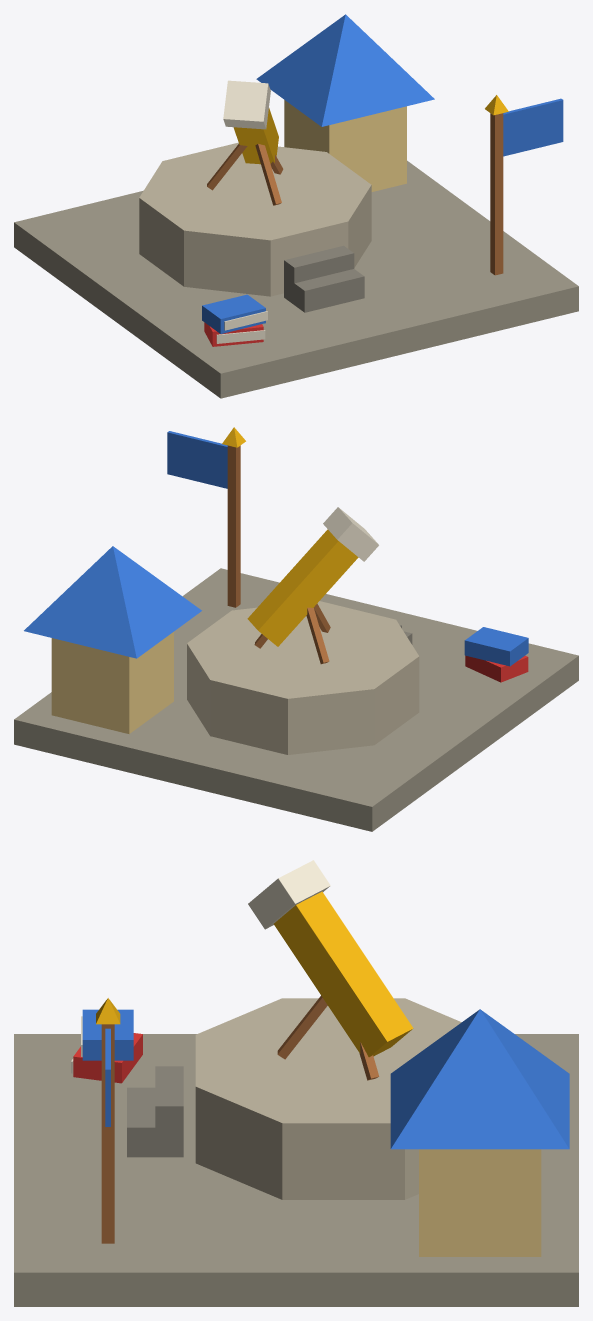
File: observatory_t1_v1.glb
3 views of the same model, one above another, from view 1: azimuth 30°, elevation 25°; view 2: azimuth 150°, elevation 25°; view 3: azimuth 270°, elevation 25° (orthographic). The views are drawn at different scales.
Visible parts, largest first — view 1: observatory_t1_v1; view 2: observatory_t1_v1; view 3: observatory_t1_v1.
Boxes of the visible parts, left/top/right/bottom form: observatory_t1_v1: left=14, top=14, right=578, bottom=398; observatory_t1_v1: left=14, top=427, right=578, bottom=831; observatory_t1_v1: left=14, top=860, right=578, bottom=1306.
Size of the model in its own units: 0.63 by 0.3351 by 0.6.
Materials: 1 (1 with a texture image).
